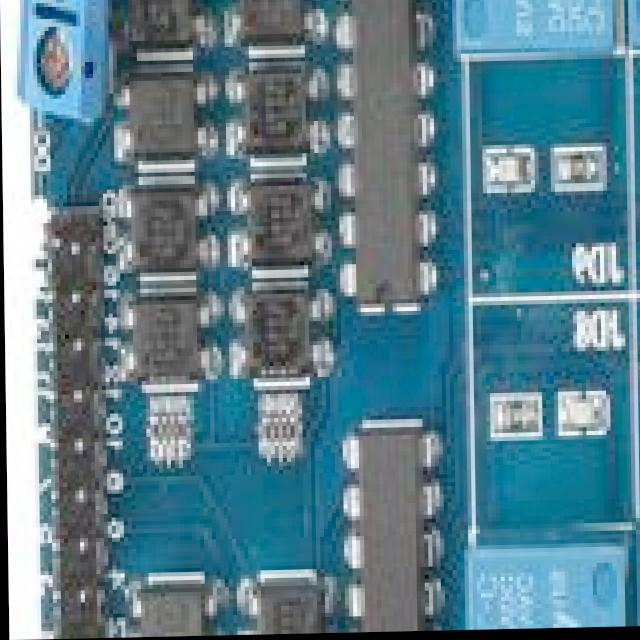IC: (340, 0, 424, 314), (333, 416, 439, 634), (121, 69, 202, 178), (243, 295, 317, 400), (238, 167, 311, 270), (243, 78, 322, 164), (129, 289, 197, 388), (128, 185, 195, 284), (131, 584, 211, 638), (255, 574, 323, 636), (244, 0, 317, 52), (132, 0, 205, 50)
LED: (484, 151, 530, 200), (559, 402, 605, 434)
connector: (30, 210, 107, 640), (16, 0, 117, 120)
relay: (470, 541, 631, 632), (456, 0, 617, 68), (628, 0, 640, 73), (638, 533, 640, 629)
resistor: (139, 401, 197, 464), (251, 411, 301, 464), (556, 150, 602, 198), (489, 403, 533, 440)
